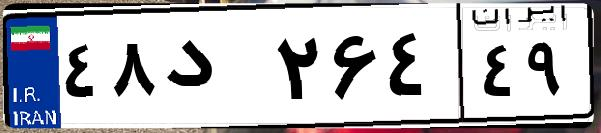2: (270, 28, 330, 110)
4: (385, 28, 445, 110), (57, 26, 110, 100), (475, 38, 525, 113)
6: (330, 28, 385, 110)
8: (110, 28, 158, 98)
9: (525, 38, 570, 115)
د: (158, 20, 270, 120)
